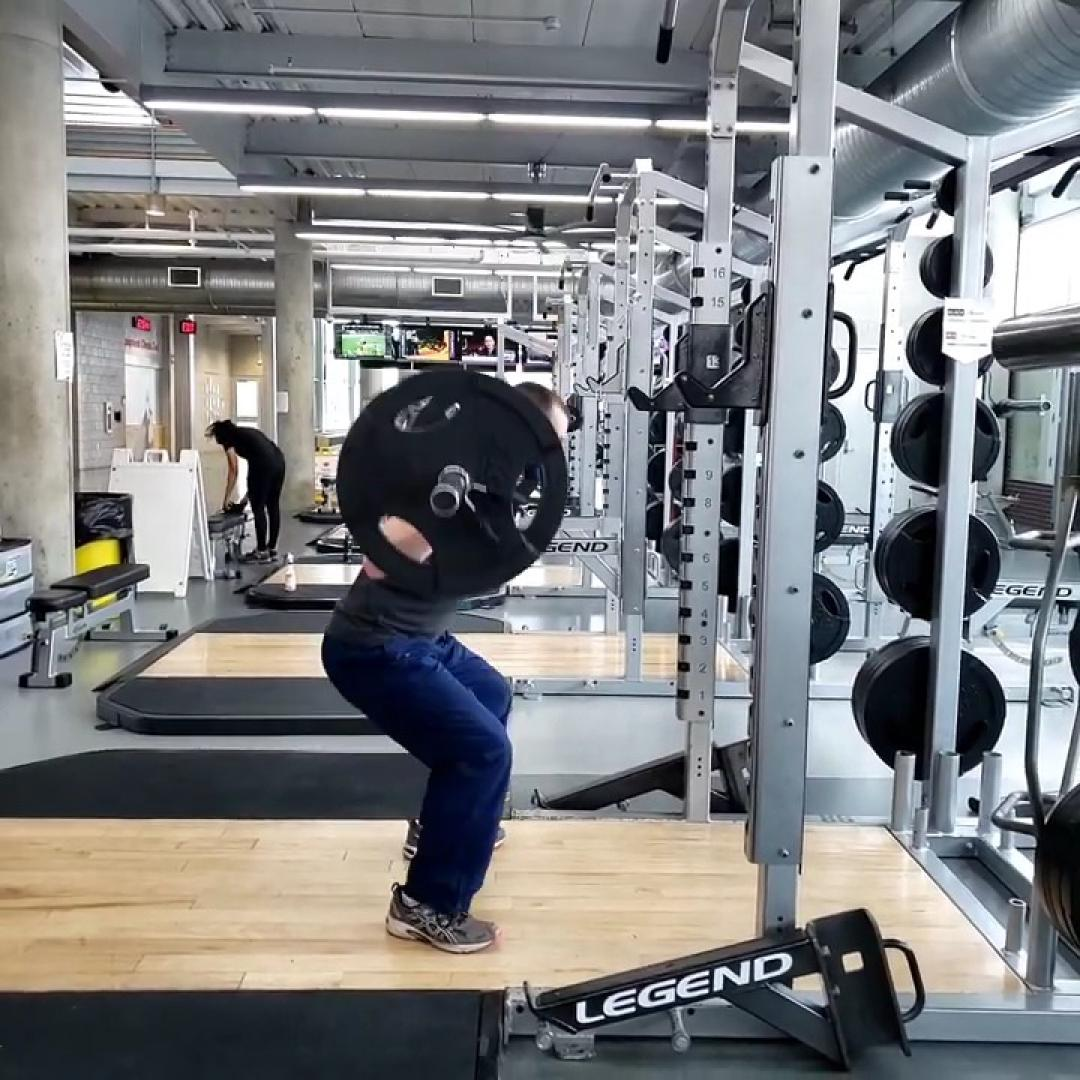Bar: (429, 484, 461, 518)
Barbell: (336, 368, 566, 596)
